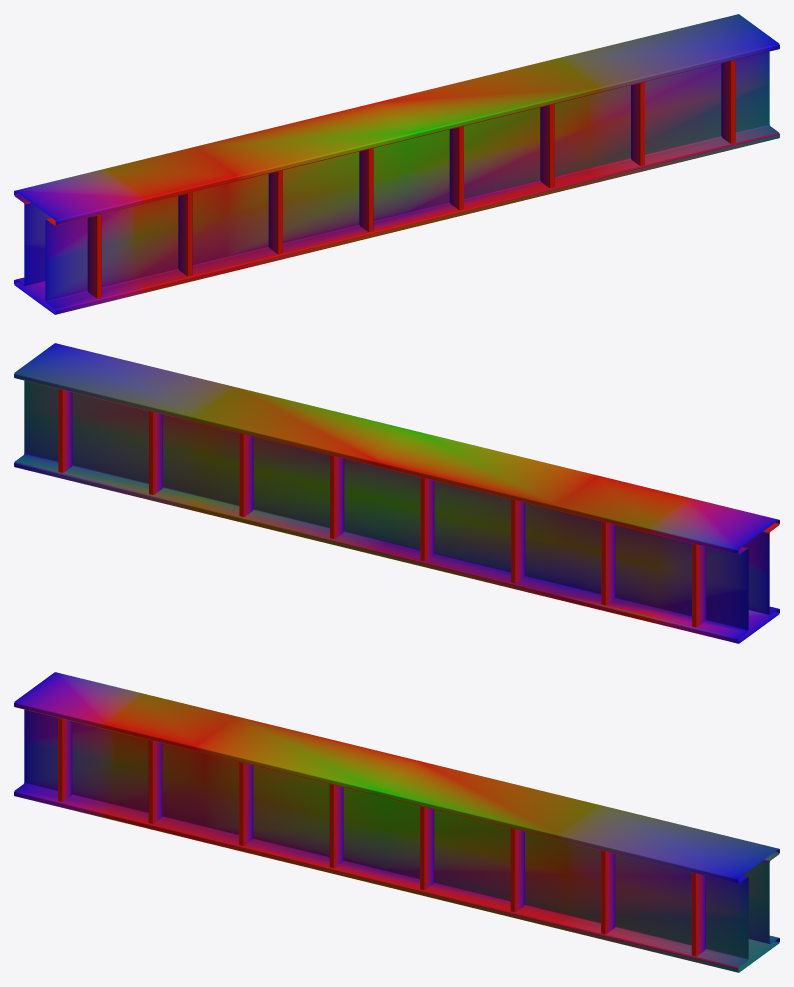
The model's file is BeamE_8.fbx.
3 views of the same model, one above another, from view 1: azimuth 30°, elevation 25°; view 2: azimuth 150°, elevation 25°; view 3: azimuth 330°, elevation 25° (orthographic).
Parts seen in each view (by area): view 1: Cube.000; view 2: Cube.000; view 3: Cube.000.
Part boxes in pixels (x1,y1,x2,y2): Cube.000: [14, 14, 779, 314]; Cube.000: [14, 343, 779, 643]; Cube.000: [14, 672, 779, 972].
Size of the model in its own units: 800 by 100 by 80.
